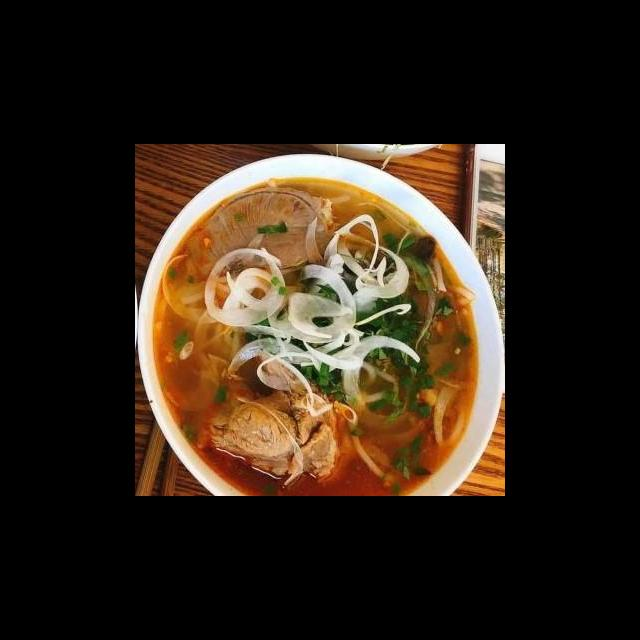thit bo: (176, 182, 340, 286)
thit heo: (189, 376, 349, 482)
